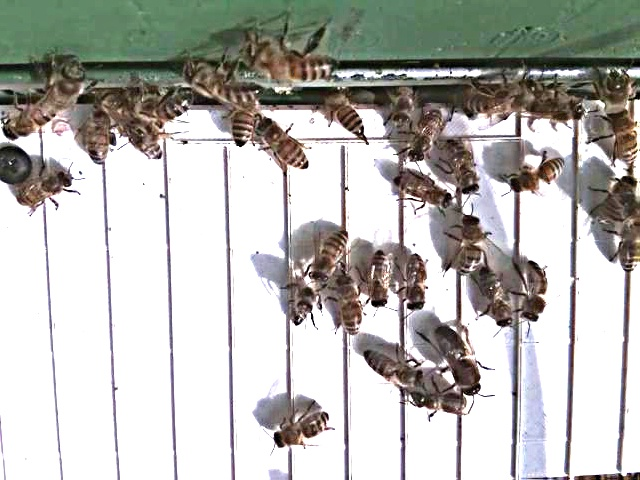Drone: (432, 320, 485, 400)
Worker: (259, 117, 315, 177), (359, 348, 430, 390), (18, 168, 78, 214), (271, 409, 334, 451), (505, 156, 571, 196), (442, 137, 482, 201), (478, 266, 517, 331), (390, 174, 454, 212), (518, 259, 553, 327), (310, 228, 351, 286), (604, 106, 640, 171), (406, 109, 446, 166), (334, 276, 367, 341), (454, 210, 486, 277), (407, 388, 471, 420), (85, 105, 116, 170), (613, 211, 640, 276), (368, 249, 395, 312), (404, 252, 430, 317), (230, 92, 257, 153)
